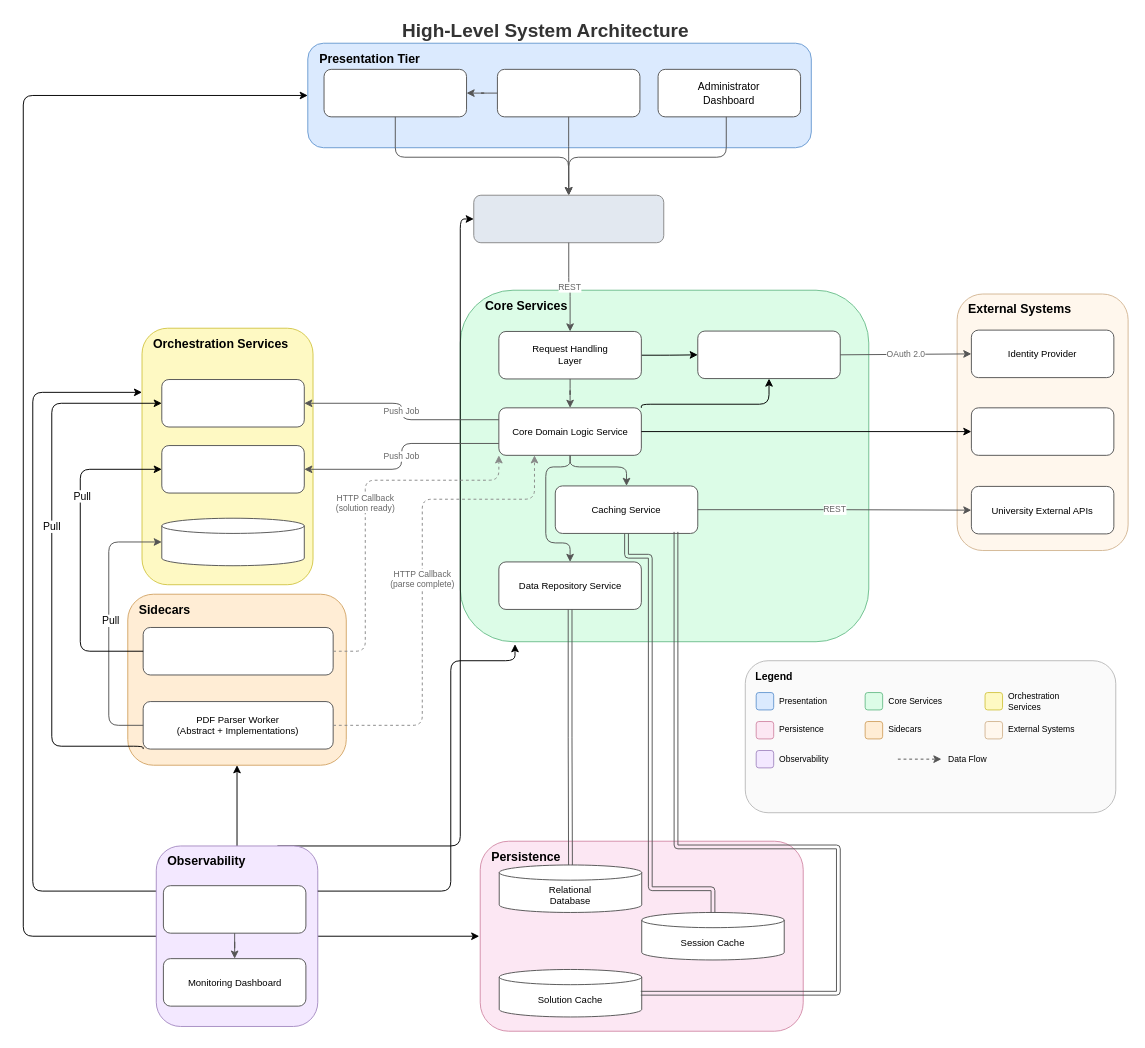
Image size: 1145x1048. Some labels were removed from this diagram. The shapes that lost their labels are listed below. From the top down, each one's centre as x and y in pixels, then its label:
the point at 395,92: Student / Lecturer Interface
the point at 568,92: University-Branded Interface
the point at 568,218: Reverse Proxy / Load Balancer
the point at 768,354: Authentication Service
the point at 232,403: PDF Job Queue
the point at 1042,431: Calendar API
the point at 232,469: Optimiser Job Queue
the point at 232,541: Object Storage (Temporary)
the point at 237,651: Scheduling Solver Worker (Strategy: Constraint / Heuristic)
the point at 234,909: Metrics Collector
